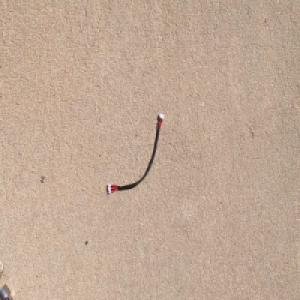Wire: (107, 112, 164, 195)
